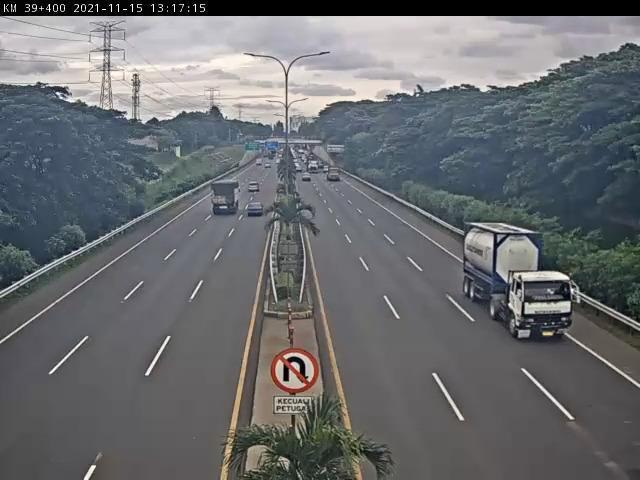car: (246, 201, 266, 218)
truck: (462, 219, 577, 341), (212, 178, 243, 217)
